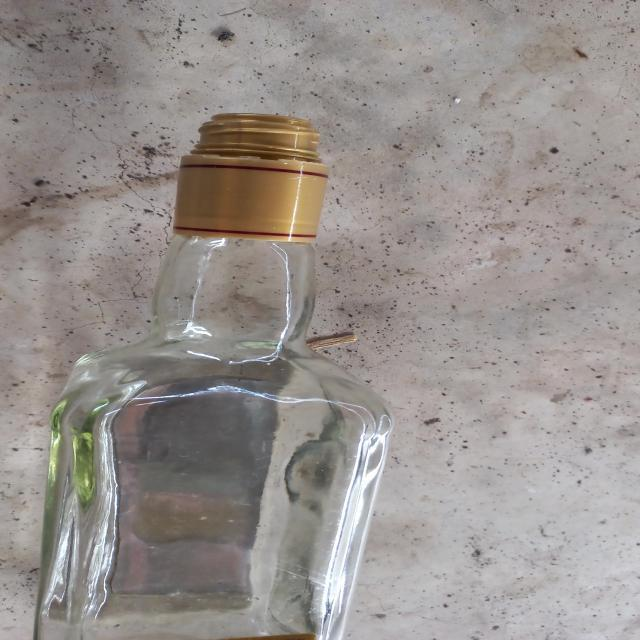Glass: (32, 112, 396, 640)
